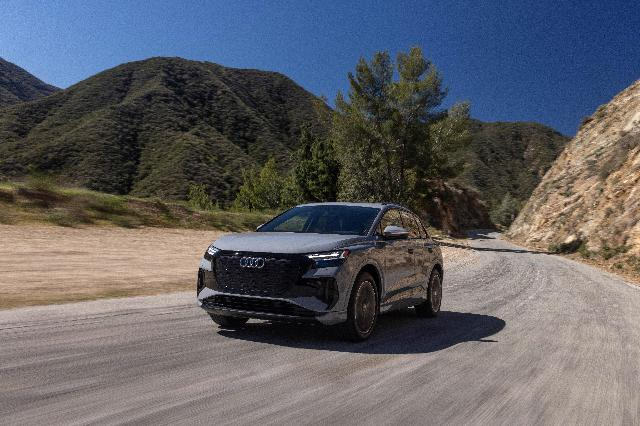audi: (196, 202, 444, 339)
